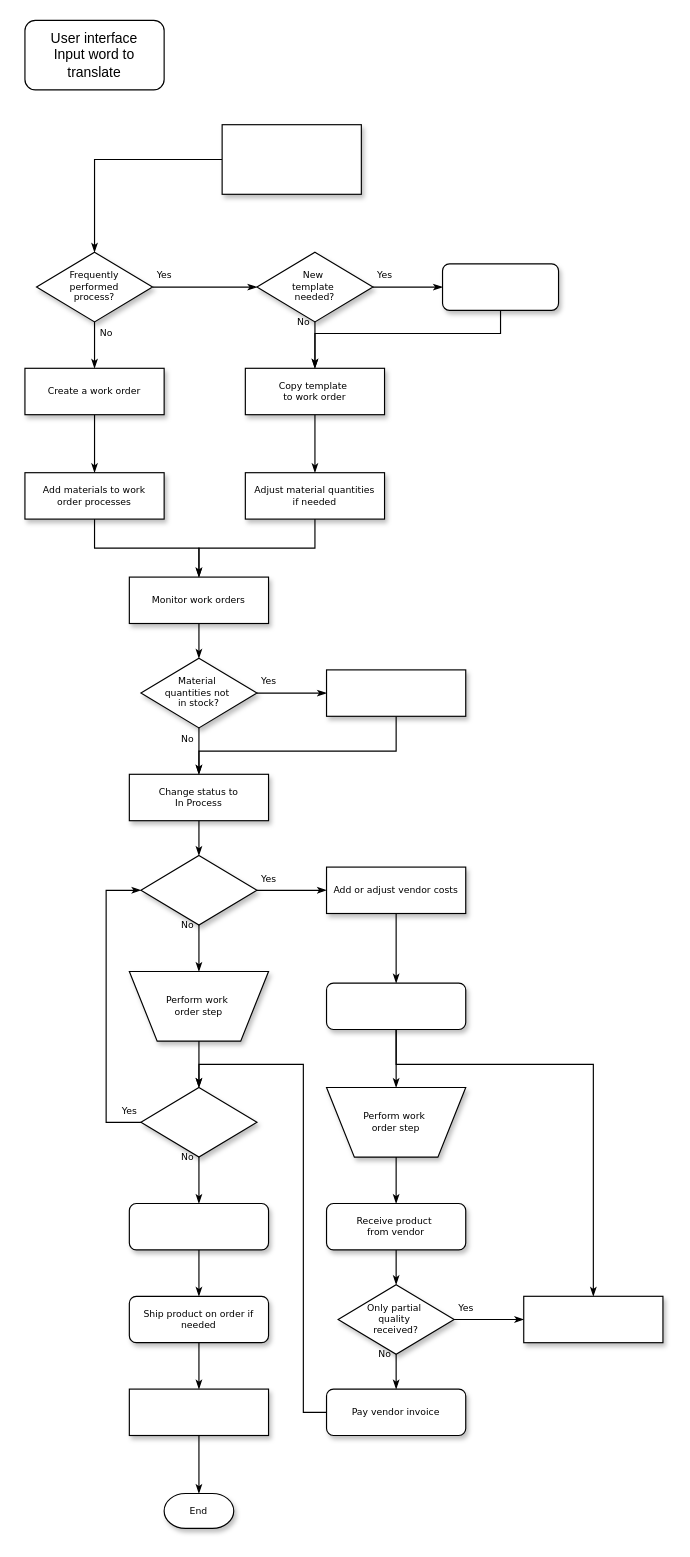
Some shapes in this 690 by 1557 pixel diagram are drawn without their labels. Each missing label, with the centre of its shape:
"Additional processing required?" belongs at pixel 199 1123.
"Change status to Complete" belongs at pixel 200 1413.
"Create work order backorder" belongs at pixel 594 1320.
"Create work order template" belongs at pixel 501 288.
"Order a product that requires value-add processing" belongs at pixel 292 160.
"Procedure or transfer materials" belongs at pixel 397 694.
"Receive info stock" belongs at pixel 200 1228.
"Ship materials to vendor" belongs at pixel 397 1007.
"Step performed by outside vendor?" belongs at pixel 199 891.
